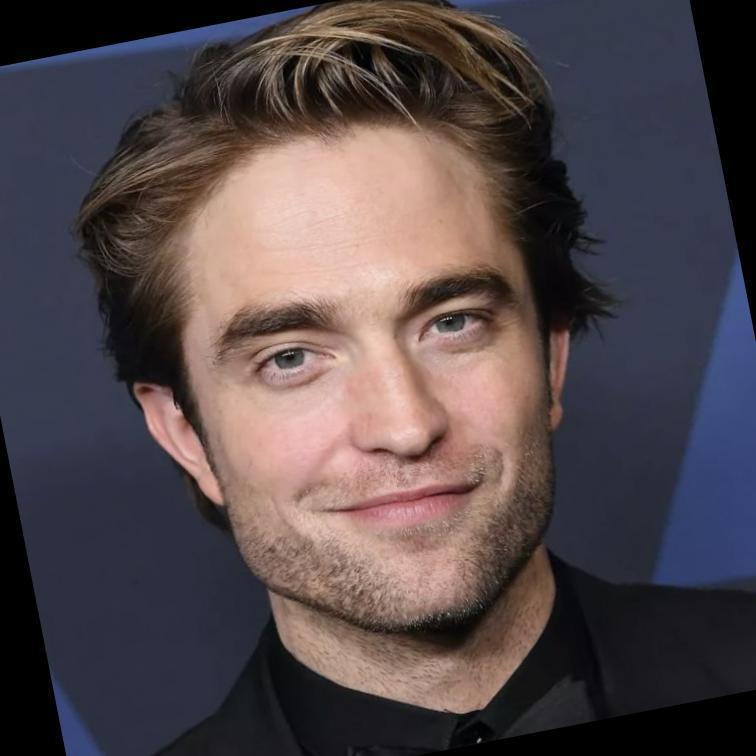Sober: (204, 150, 545, 578)
